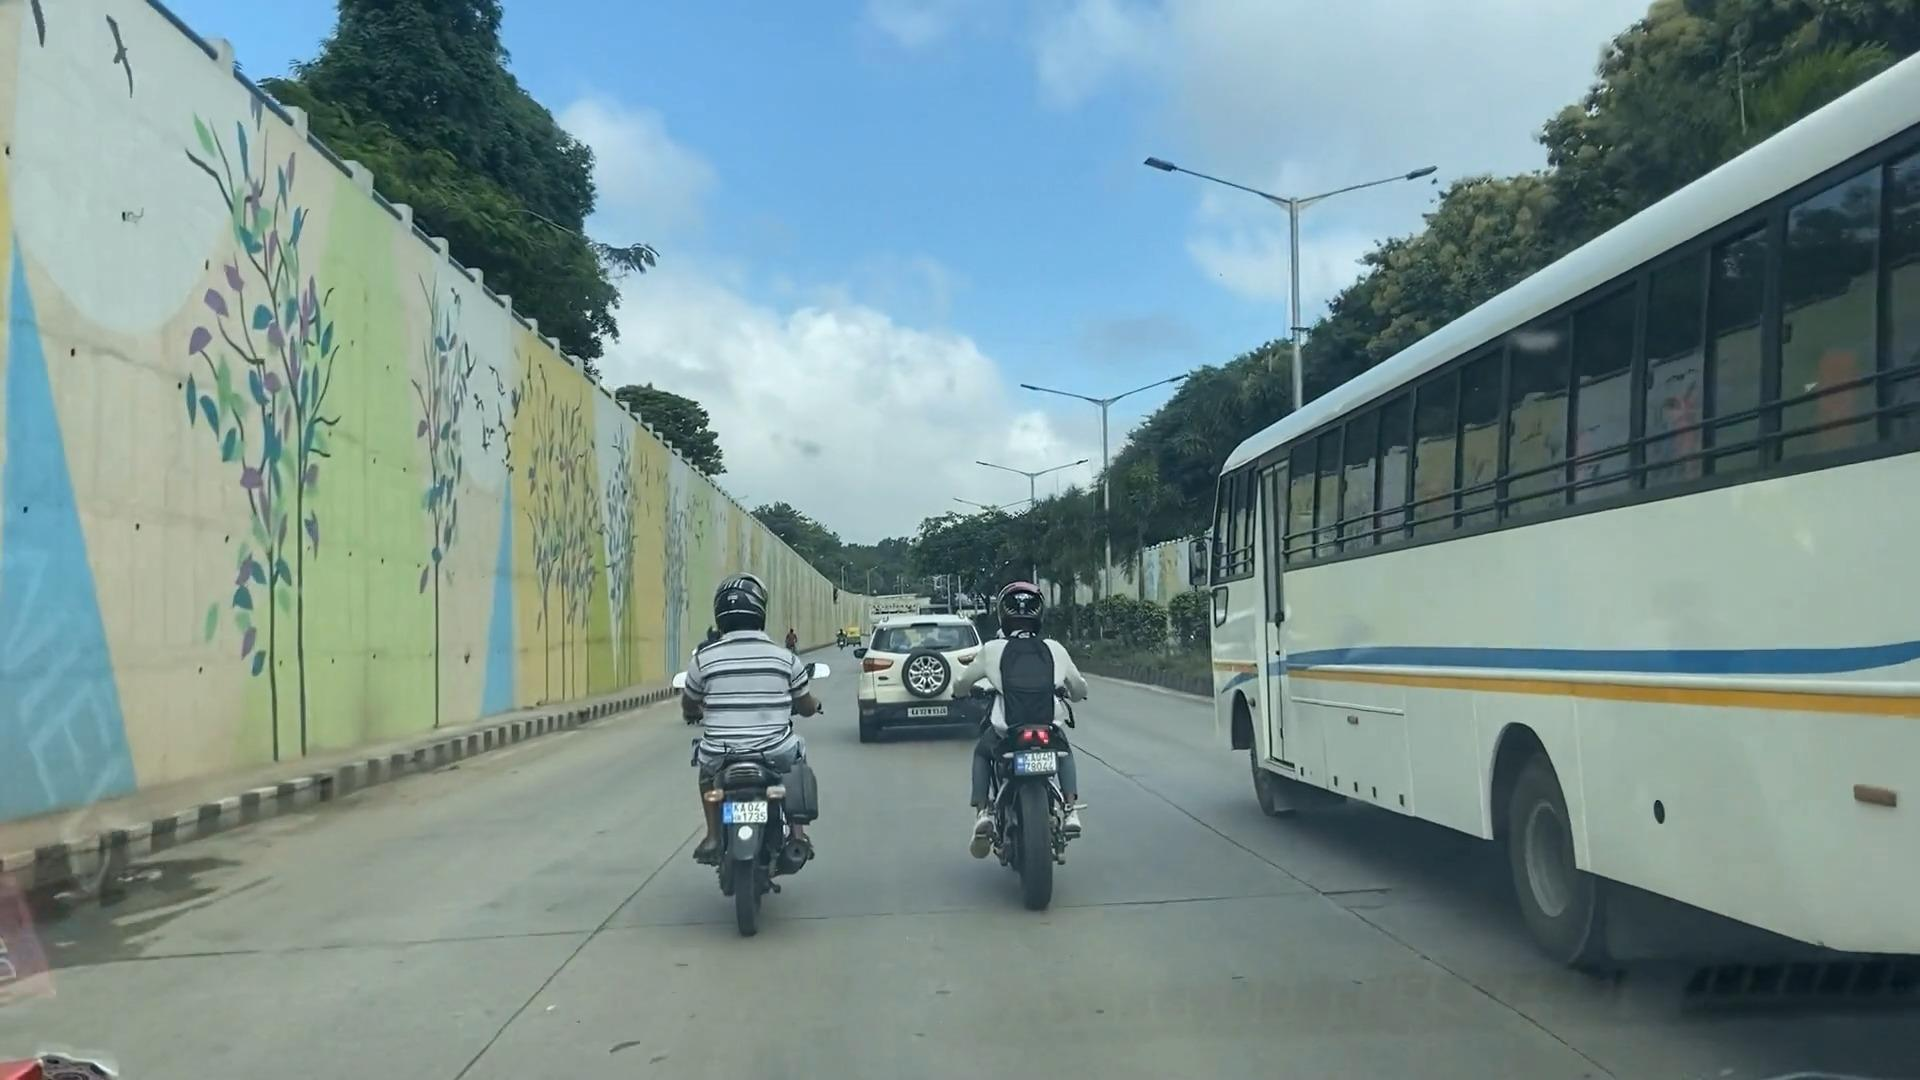HMV: (1213, 137, 1920, 909)
LMV: (684, 582, 811, 903), (959, 611, 1077, 907), (857, 622, 969, 742)
